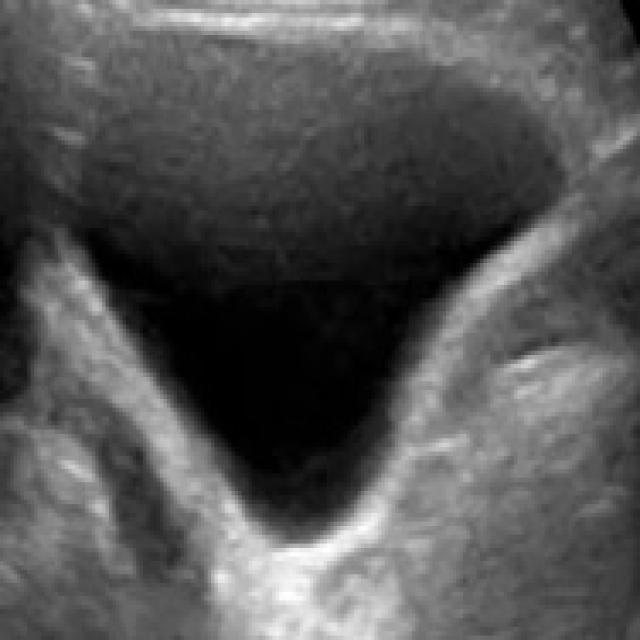bladder: (51, 0, 595, 587)
